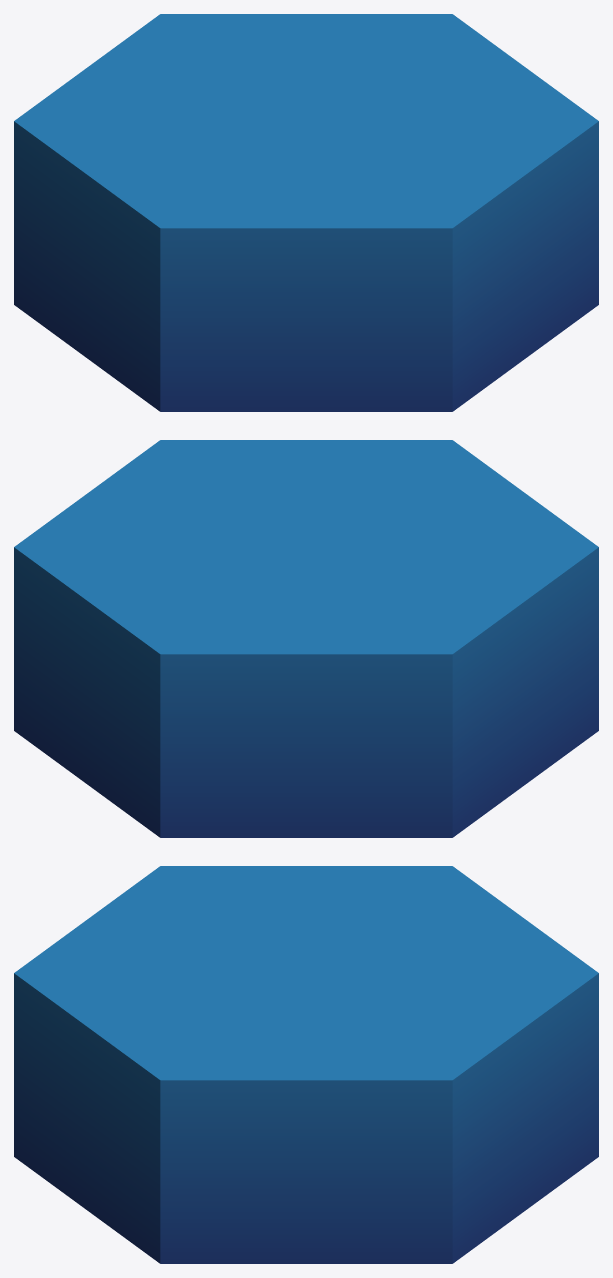
Rendered from hex_water.glb.
The picture shows the model from 3 angles, top to bottom: view 1: azimuth 30°, elevation 25°; view 2: azimuth 150°, elevation 25°; view 3: azimuth 270°, elevation 25°; orthographic projection.
Parts seen in each view (by area): view 1: hex_water; view 2: hex_water; view 3: hex_water.
Boxes of the visible parts, box(x1,y1,x2,y2) form: hex_water: box(14, 14, 598, 411); hex_water: box(14, 440, 598, 837); hex_water: box(14, 866, 598, 1263).
Size of the model in its own units: 2 by 0.8 by 2.31.
Materials: 1 (1 with a texture image).
